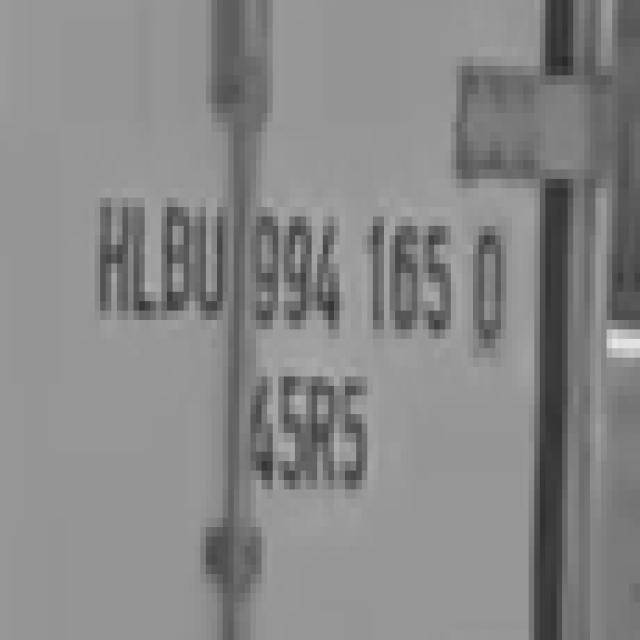dv: (462, 211, 513, 354)
owner: (90, 170, 226, 338)
serial: (252, 190, 457, 352)
size: (240, 367, 382, 502)
